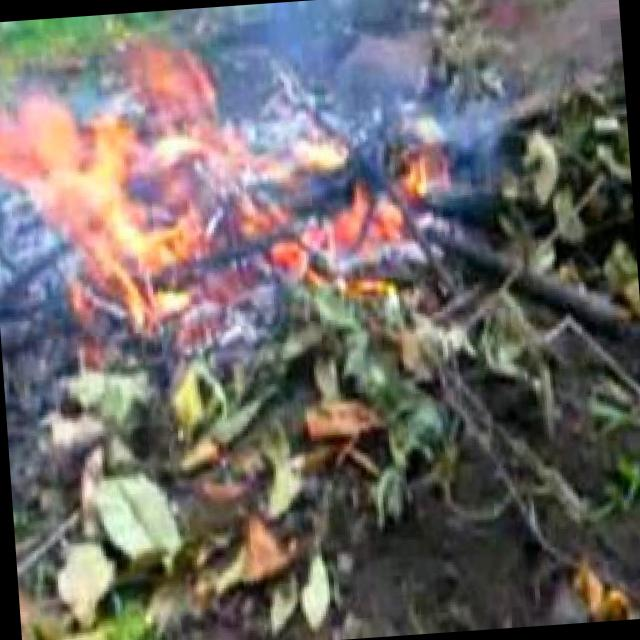Fire: (0, 13, 455, 328)
